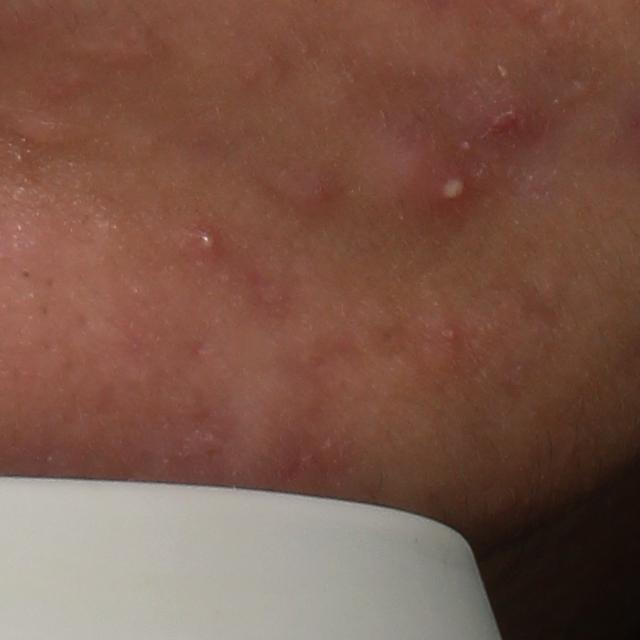hypertrophic_scar: (56, 27, 176, 76)
papule: (374, 144, 444, 217), (481, 101, 529, 146), (285, 176, 335, 216)
pustule: (187, 224, 222, 258), (438, 170, 471, 203)
